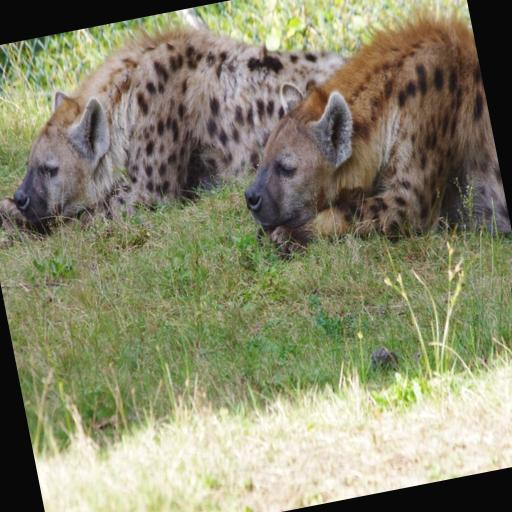hyenas: (0, 0, 509, 311)
